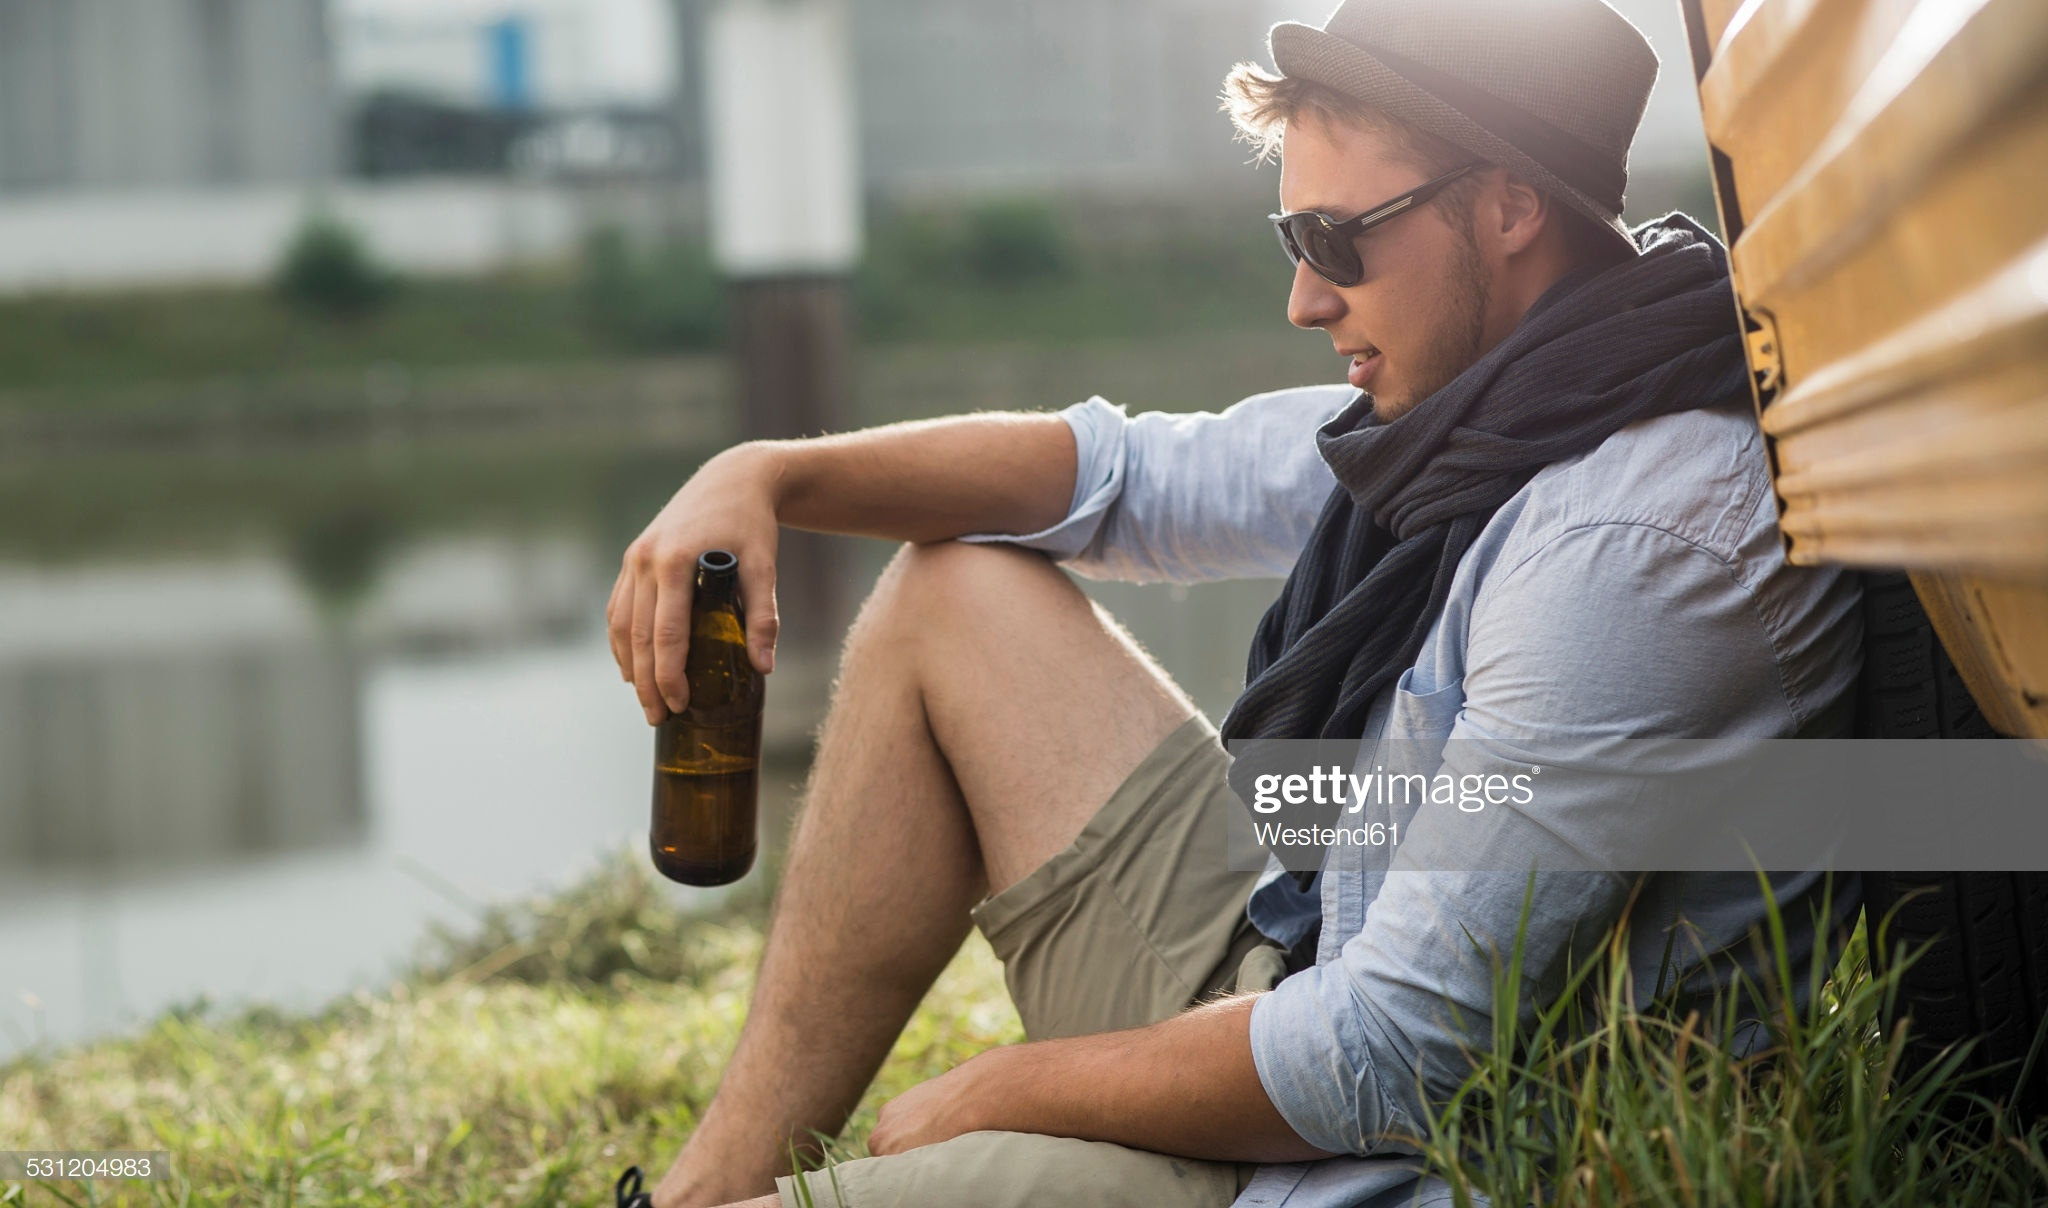beerBottle: (649, 545, 772, 905)
